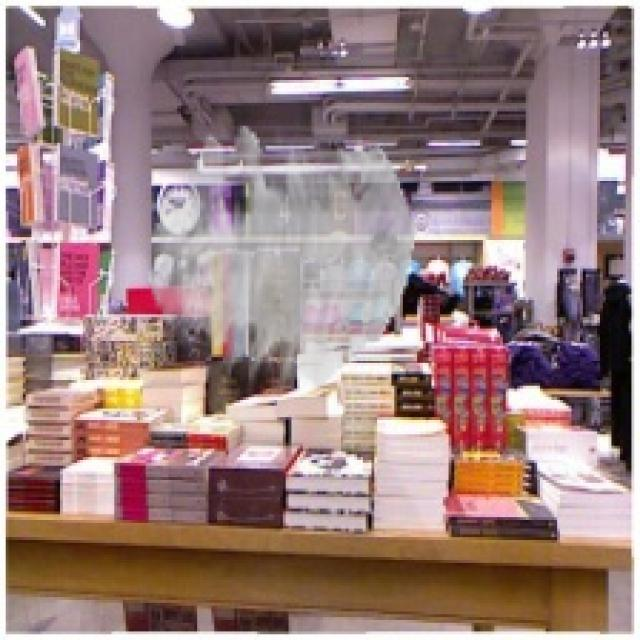smoke: (149, 126, 414, 391)
